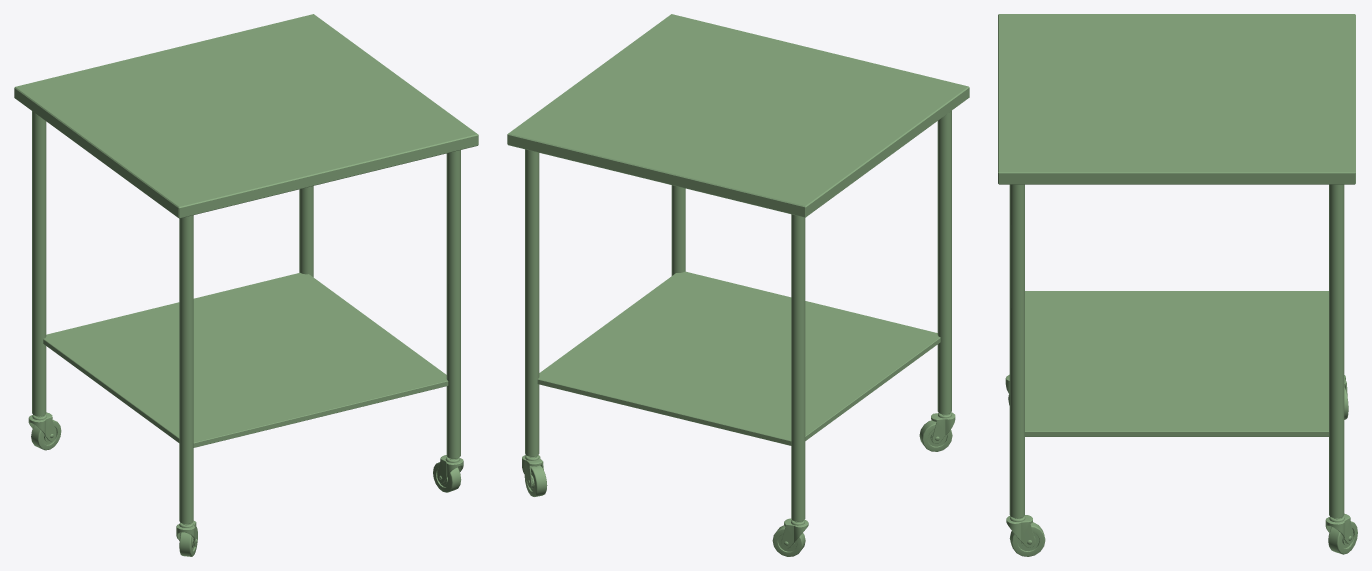
Rendered from SmallTable 1.fbx.
3 renders of one model, left to right at view 1: azimuth 30°, elevation 25°; view 2: azimuth 150°, elevation 25°; view 3: azimuth 270°, elevation 25°, orthographic. The views are drawn at different scales.
Visible parts, largest first — view 1: Furniture_Table_01:Furniture_Cart_01:Front_LeftCaster_Geo_01; view 2: Furniture_Table_01:Furniture_Cart_01:Front_LeftCaster_Geo_01; view 3: Furniture_Table_01:Furniture_Cart_01:Front_LeftCaster_Geo_01.
Boxes of the visible parts, left/top/right/bottom form: Furniture_Table_01:Furniture_Cart_01:Front_LeftCaster_Geo_01: left=14, top=14, right=478, bottom=556; Furniture_Table_01:Furniture_Cart_01:Front_LeftCaster_Geo_01: left=507, top=14, right=969, bottom=556; Furniture_Table_01:Furniture_Cart_01:Front_LeftCaster_Geo_01: left=998, top=14, right=1357, bottom=556.
Bounding box in the file's own units: 16.98 × 19.56 × 16.27.
